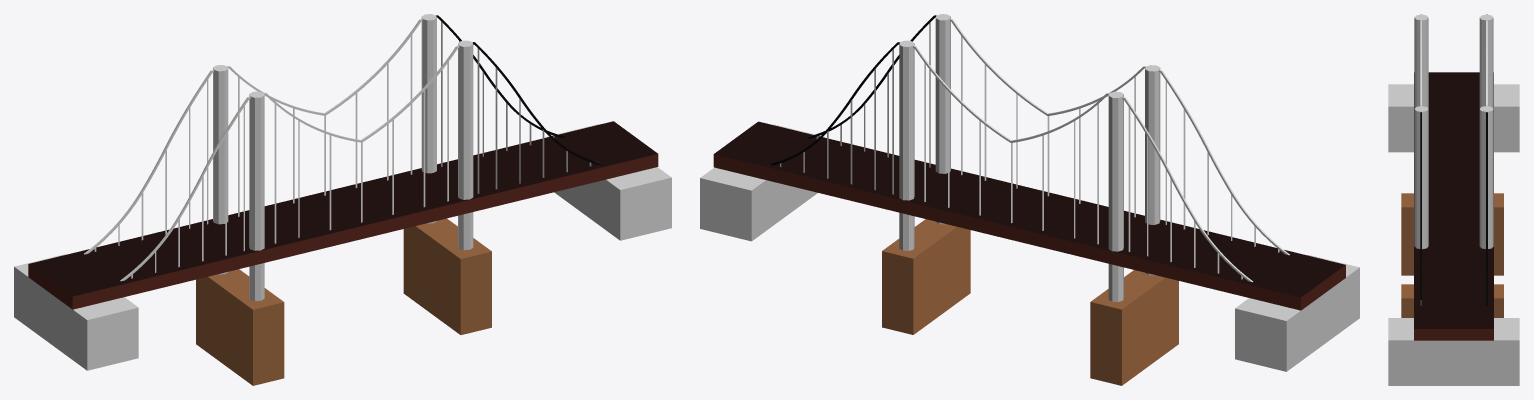
The model's file is ponteATT.fbx.
3 views of the same model, side by side, from view 1: azimuth 30°, elevation 25°; view 2: azimuth 150°, elevation 25°; view 3: azimuth 270°, elevation 25° (orthographic). The views are drawn at different scales.
Parts seen in each view (by area): view 1: Road, LowerLeftSupport, LowerRighSupport, UpperLeftSupport, UpperRightSupport, FrontRightCornerstone, FrontLeftCornerstone, BackRightCornerstone, BackLeftCornerstone, FrontalHorizontal1, FrontalHorizontal2, BackHorizontal1 (+1 smaller); view 2: Road, LowerRighSupport, LowerLeftSupport, UpperLeftSupport, UpperRightSupport, BackLeftCornerstone, BackRightCornerstone, FrontRightCornerstone, FrontLeftCornerstone, FrontalHorizontal1, BackHorizontal2, BackHorizontal1 (+1 smaller); view 3: Road, UpperRightSupport, UpperLeftSupport, FrontRightCornerstone, LowerLeftSupport, BackRightCornerstone, FrontLeftCornerstone, BackLeftCornerstone, LowerRighSupport, FrontalHorizontal3, BackHorizontal3, FrontalHorizontal2 (+1 smaller).
Part boxes in pixels (x1,y1,x2,y2): Road: (28, 121, 658, 309); LowerLeftSupport: (196, 269, 284, 385); LowerRighSupport: (403, 218, 491, 334); UpperLeftSupport: (14, 254, 138, 370); UpperRightSupport: (547, 124, 671, 240); FrontRightCornerstone: (458, 40, 473, 250); FrontLeftCornerstone: (249, 91, 264, 300); BackRightCornerstone: (421, 14, 436, 223); BackLeftCornerstone: (213, 65, 228, 274); FrontalHorizontal1: (120, 96, 250, 281); FrontalHorizontal2: (264, 45, 459, 142); BackHorizontal1: (84, 70, 213, 254); Road: (713, 121, 1345, 310); LowerRighSupport: (882, 219, 970, 334); LowerLeftSupport: (1090, 270, 1178, 385); UpperLeftSupport: (1235, 255, 1359, 371); UpperRightSupport: (700, 124, 824, 241); BackLeftCornerstone: (1108, 91, 1123, 301); BackRightCornerstone: (899, 40, 914, 250); FrontRightCornerstone: (935, 14, 950, 224); FrontLeftCornerstone: (1145, 65, 1160, 275); FrontalHorizontal1: (1159, 70, 1289, 255); BackHorizontal2: (913, 45, 1109, 142); BackHorizontal1: (1122, 97, 1252, 282); Road: (1414, 72, 1493, 340); UpperRightSupport: (1388, 318, 1519, 385); UpperLeftSupport: (1388, 84, 1519, 152); FrontRightCornerstone: (1414, 106, 1428, 249); LowerLeftSupport: (1401, 193, 1503, 275); BackRightCornerstone: (1479, 106, 1493, 249); FrontLeftCornerstone: (1414, 14, 1428, 108); BackLeftCornerstone: (1479, 14, 1493, 108); LowerRighSupport: (1401, 284, 1503, 317); FrontalHorizontal3: (1420, 112, 1421, 305); BackHorizontal3: (1486, 112, 1487, 305); FrontalHorizontal2: (1420, 20, 1421, 105).
Size of the model in its own units: 5472 by 2495 by 1183.
